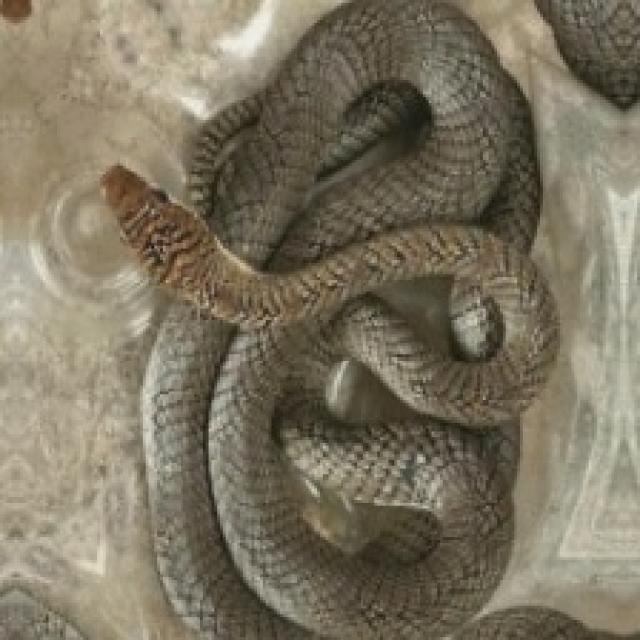paradise tree snake: (103, 0, 554, 637)
